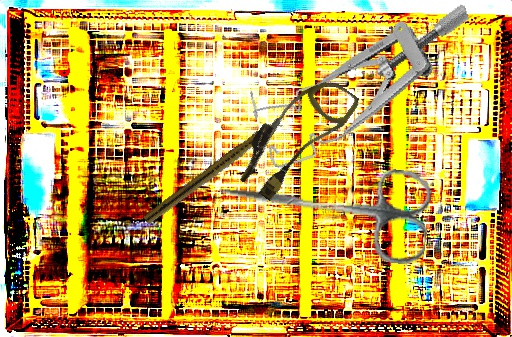Cannula: (229, 61, 362, 212)
Handpiece: (142, 116, 285, 228)
Iris Scissors: (213, 148, 434, 267)
Speculum: (240, 0, 496, 173)
